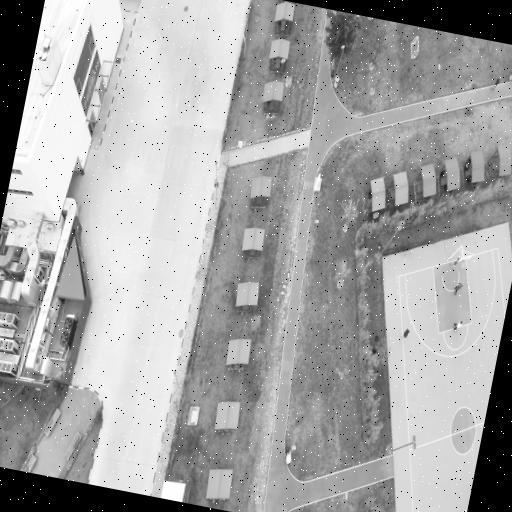person: (454, 283, 462, 296), (464, 158, 471, 171), (492, 78, 500, 89), (452, 258, 459, 270), (402, 329, 409, 340), (454, 321, 462, 330), (466, 174, 472, 182), (442, 170, 447, 178)
